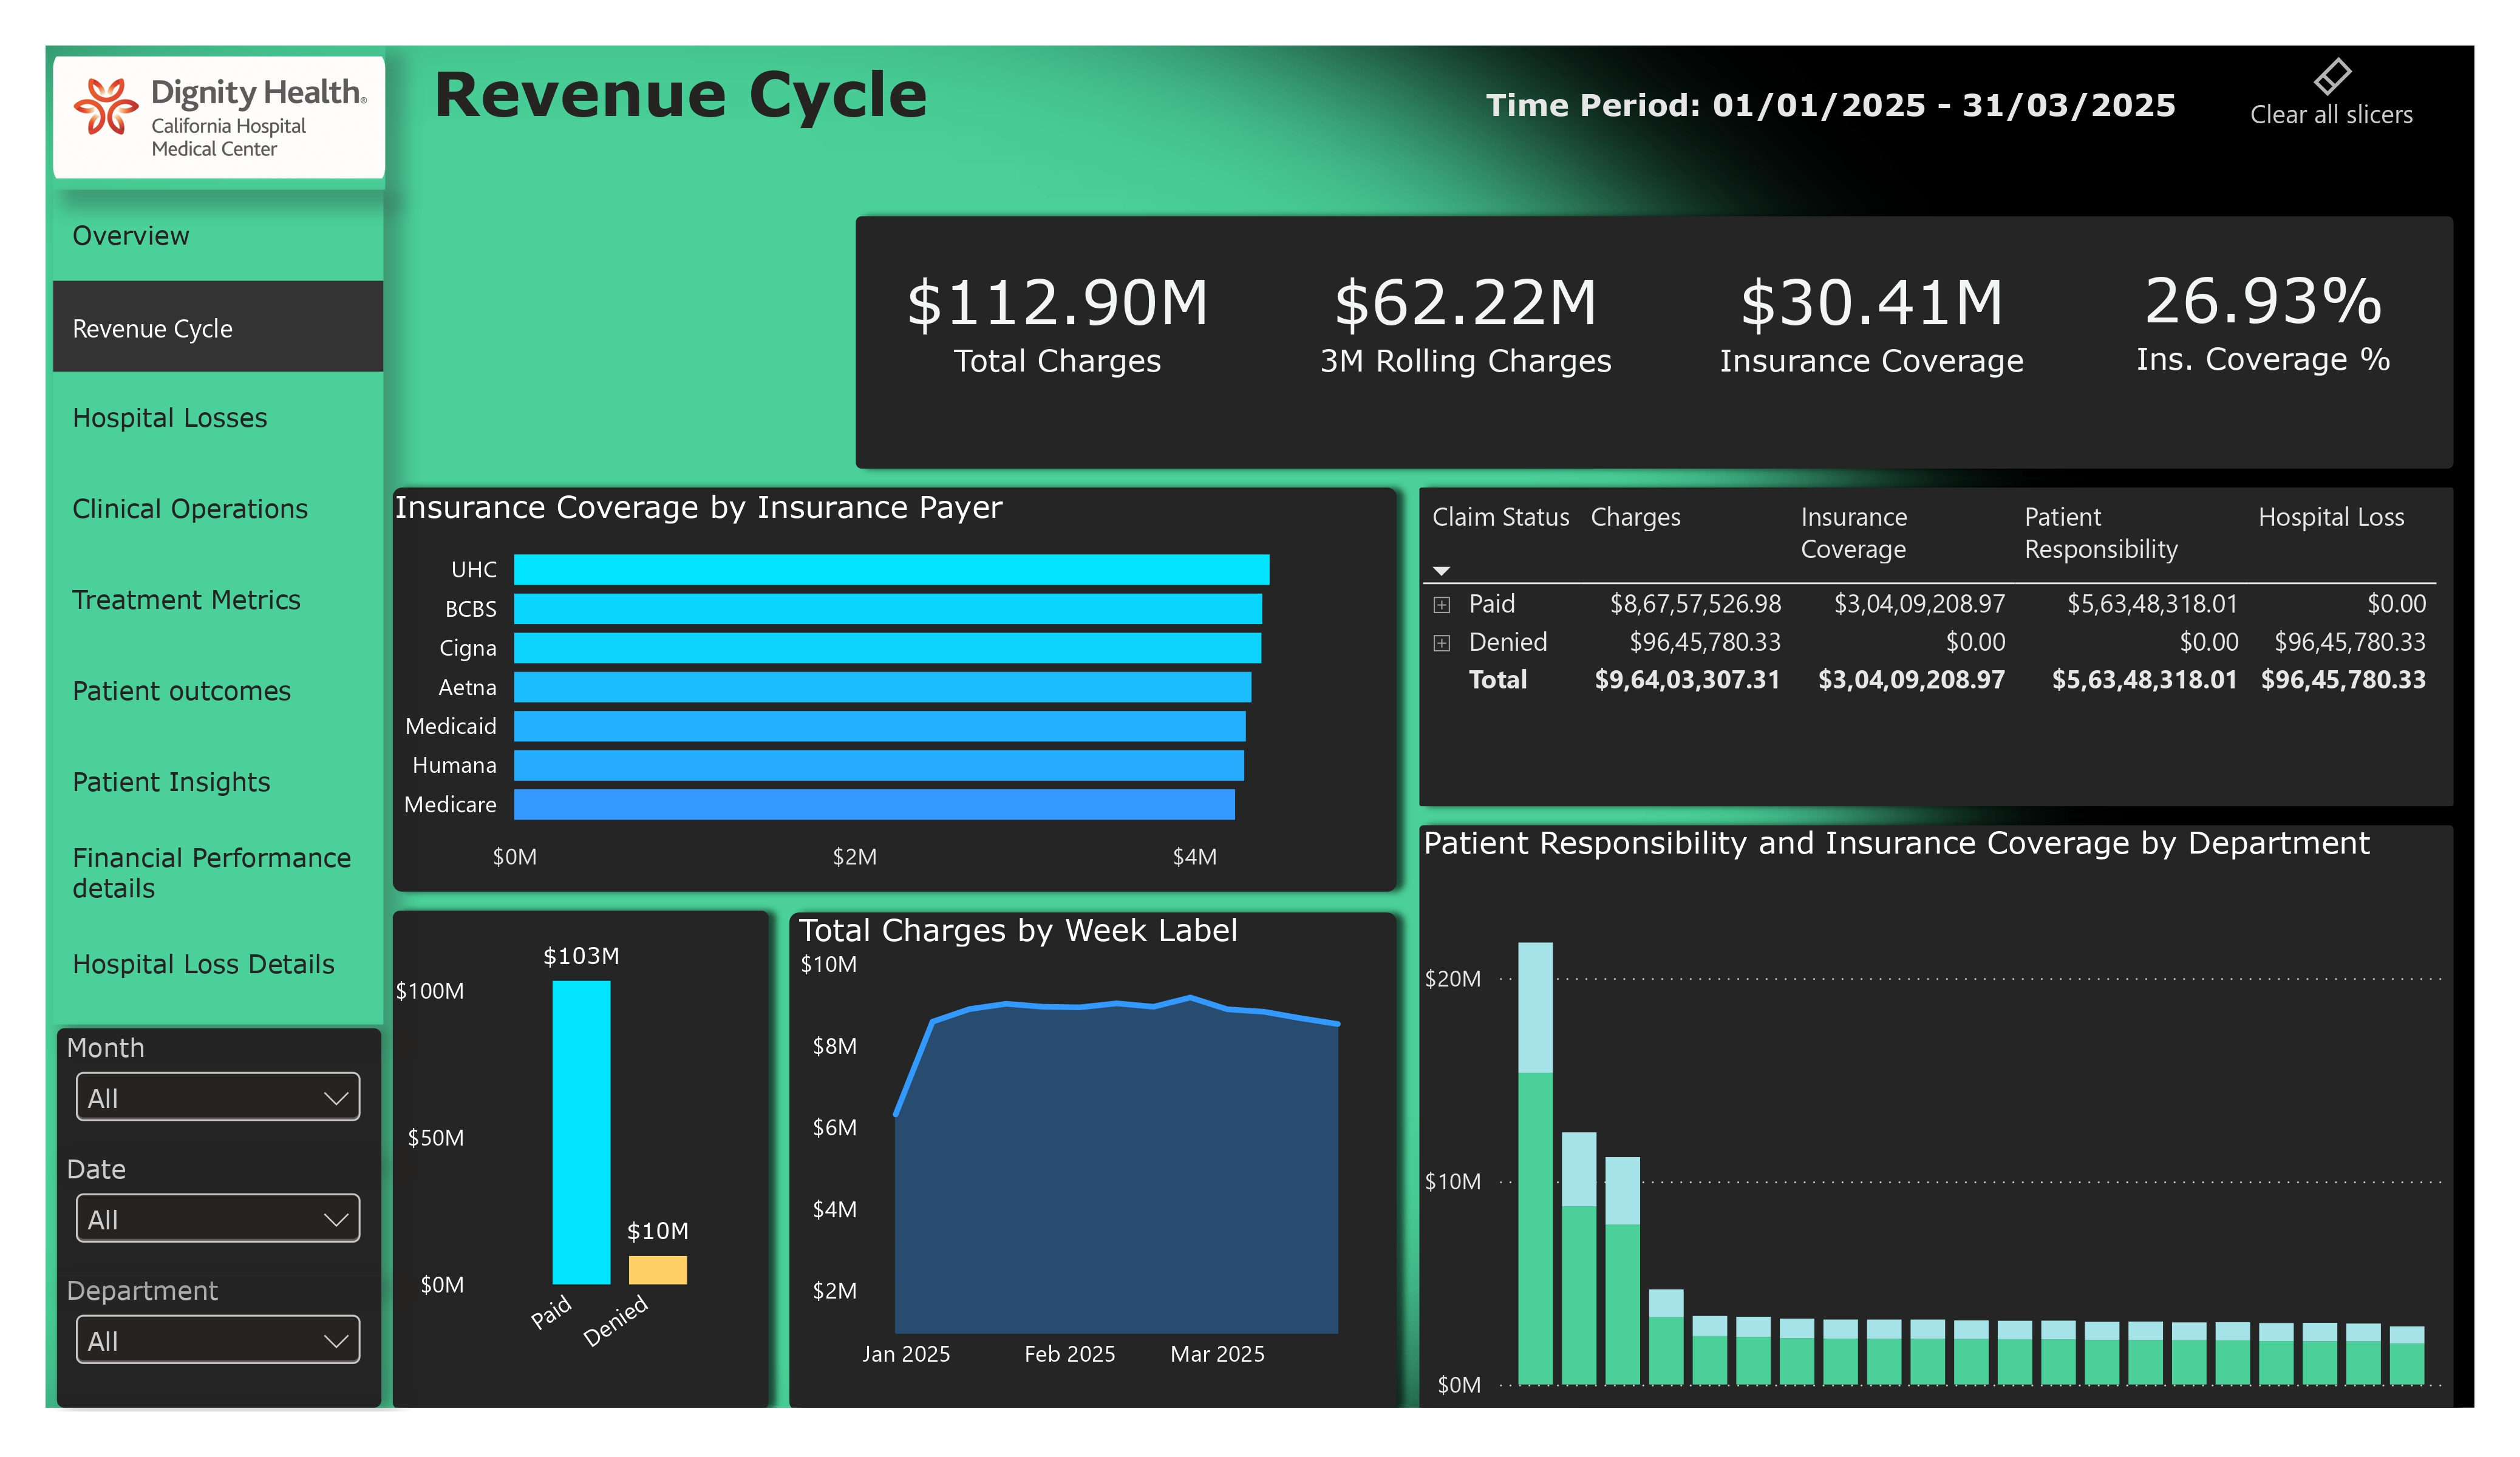

Layout of this report page (visuals, bound fields, positions):
{"tool":"powerbi","page":{"name":"Revenue Cycle","canvas":[1280,720],"ordinal":1},"visuals":[{"type":"cardVisual","fields":{"Data":["_Measures.3M Rolling Charges"]},"box":[641.2,88.8,215,135],"z":0},{"type":"pageNavigator","box":[3.8,76.2,174,440],"z":1000},{"type":"cardVisual","fields":{"Data":["_Measures.Insurance Coverage %"]},"box":[1070,87.5,197.5,135],"z":2000,"group":"g1"},{"type":"slicer","title":"Department","fields":{"Values":["Encounters.department"]},"box":[6.3,647.8,170,61.2],"z":2000},{"type":"cardVisual","fields":{"Data":["_Measures.Total Charges"]},"box":[426.2,88.8,215,135],"z":3000},{"type":"slicer","title":"Month","fields":{"Values":["Calendar.Month Name"]},"box":[6.3,520.3,170,64.1],"z":4000},{"type":"textbox","box":[198.8,0,931.2,53.8],"z":5000},{"type":"cardVisual","fields":{"Data":["_Measures.Total Insurance Coverage"]},"box":[855,88.8,215,135],"z":6000},{"type":"slicer","title":"Date","fields":{"Values":["Encounters.admission_date"]},"box":[6.3,584.4,170,64.1],"z":7000},{"type":"group","id":"g1","title":"Group 4","box":[1070,87.5,197.5,135],"z":8000},{"type":"actionButton","box":[1130,0,150,50],"z":9000},{"type":"image","box":[3.8,0,175,76.2],"z":10000},{"type":"columnChart","fields":{"Category":["Claims and billing.claim_status"],"Y":["_Measures.Total Charges"]},"box":[178.6,456,202.7,253.4],"z":11000},{"type":"areaChart","fields":{"Category":["Calendar.Week Label"],"Y":["_Measures.Total Charges"]},"box":[392.1,456,319.7,252.1],"z":12000},{"type":"clusteredBarChart","fields":{"Category":["Claims and billing.insurance_payer"],"Y":["_Measures.Total Insurance Coverage"]},"box":[178.6,232.8,533.2,213.5],"z":13000},{"type":"pivotTable","fields":{"Rows":["Claims and billing.claim_status","Claims and billing.insurance_payer","Claims and billing.claim_id"],"Values":["_Measures.Total Charges","_Measures.Total Insurance Coverage","_Measures.Total Patient Responsibility","_Measures.Hospital Loss"]},"box":[721.2,232.5,546.2,168.8],"z":14000},{"type":"columnChart","fields":{"Y":["_Measures.Total Patient Responsibility","_Measures.Total Insurance Coverage"],"Category":["Encounters.department"]},"box":[721.2,410,546.2,310],"z":15000}]}

Visuals, with their boxes on the page's 1280x720 design canvas (x1, y1, x2, y2). These are canvas units, not pixel positions in the 2520x1457 screenshot, which may show the page scaled, cropped or inside an application window:
cardVisual - _Measures.3M Rolling Charges: {"left": 641, "top": 89, "right": 856, "bottom": 224}
pageNavigator: {"left": 4, "top": 76, "right": 178, "bottom": 516}
cardVisual - _Measures.Insurance Coverage %: {"left": 1070, "top": 88, "right": 1268, "bottom": 222}
"Department" slicer: {"left": 6, "top": 648, "right": 176, "bottom": 709}
cardVisual - _Measures.Total Charges: {"left": 426, "top": 89, "right": 641, "bottom": 224}
"Month" slicer: {"left": 6, "top": 520, "right": 176, "bottom": 584}
textbox: {"left": 199, "top": 0, "right": 1130, "bottom": 54}
cardVisual - _Measures.Total Insurance Coverage: {"left": 855, "top": 89, "right": 1070, "bottom": 224}
"Date" slicer: {"left": 6, "top": 584, "right": 176, "bottom": 648}
"Group 4" group: {"left": 1070, "top": 88, "right": 1268, "bottom": 222}
actionButton: {"left": 1130, "top": 0, "right": 1280, "bottom": 50}
image: {"left": 4, "top": 0, "right": 179, "bottom": 76}
columnChart - Claims and billing.claim_status x _Measures.Total Charges: {"left": 179, "top": 456, "right": 381, "bottom": 709}
areaChart - Calendar.Week Label x _Measures.Total Charges: {"left": 392, "top": 456, "right": 712, "bottom": 708}
clusteredBarChart - Claims and billing.insurance_payer x _Measures.Total Insurance Coverage: {"left": 179, "top": 233, "right": 712, "bottom": 446}
pivotTable - Claims and billing.claim_status x Claims and billing.insurance_payer: {"left": 721, "top": 232, "right": 1267, "bottom": 401}
columnChart - _Measures.Total Patient Responsibility x _Measures.Total Insurance Coverage: {"left": 721, "top": 410, "right": 1267, "bottom": 720}
